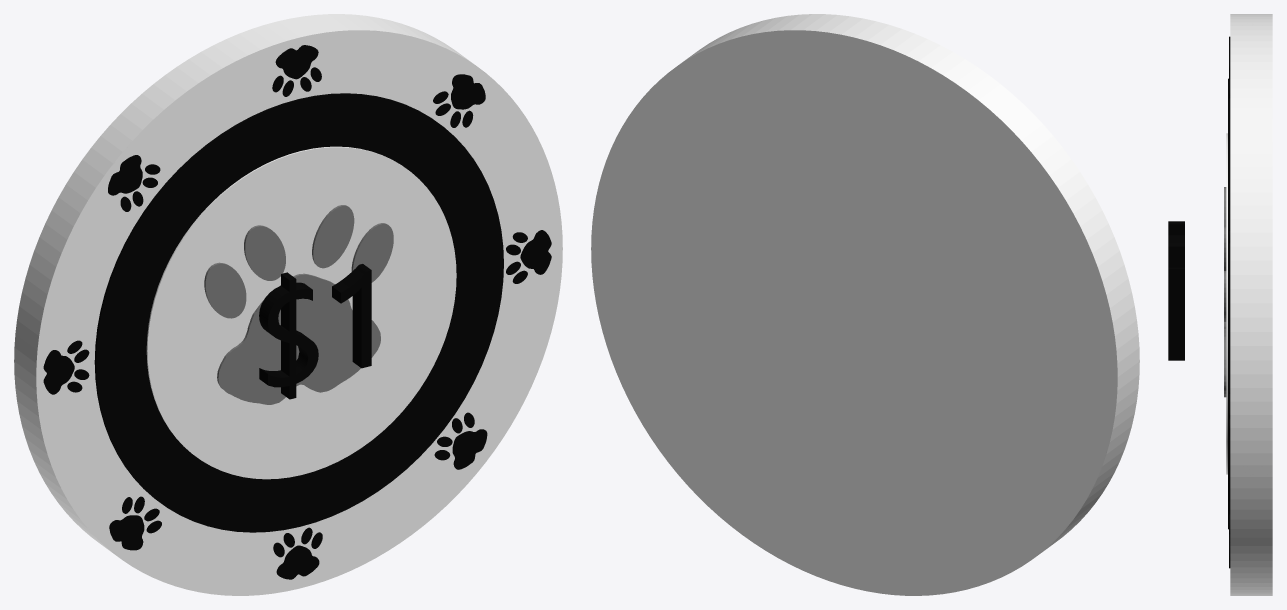
File: White paw chip.fbx
3 views of the same model, side by side, from view 1: azimuth 30°, elevation 25°; view 2: azimuth 150°, elevation 25°; view 3: azimuth 270°, elevation 25° (orthographic). The views are drawn at different scales.
Visible parts, largest first — view 1: root (×2), node_id4, node_id258, node_id260, node_id394, node_id220, node_id215, node_id231, node_id161, node_id237, node_id242, node_id192 (+1 smaller); view 2: node_id4; view 3: node_id4, node_id394, root (×2), node_id260, node_id258.
Boxes of the visible parts, left/top/right/bottom form: root (×2): left=94, top=93, right=503, bottom=532; node_id4: left=14, top=14, right=562, bottom=595; node_id258: left=217, top=273, right=380, bottom=404; node_id260: left=204, top=205, right=393, bottom=318; node_id394: left=259, top=264, right=371, bottom=399; node_id220: left=452, top=429, right=487, bottom=469; node_id215: left=108, top=155, right=142, bottom=195; node_id231: left=109, top=515, right=144, bottom=550; node_id161: left=276, top=545, right=319, bottom=579; node_id237: left=520, top=230, right=551, bottom=274; node_id242: left=43, top=350, right=74, bottom=394; node_id192: left=275, top=45, right=318, bottom=79; node_id4: left=591, top=14, right=1139, bottom=595; node_id4: left=1230, top=14, right=1272, bottom=595; node_id394: left=1168, top=221, right=1184, bottom=360; root (×2): left=1226, top=78, right=1230, bottom=529; node_id260: left=1224, top=187, right=1226, bottom=321; node_id258: left=1224, top=322, right=1226, bottom=397.
Bounding box in the file's own units: 0.5155 × 0.5155 × 0.0927.
22 materials, 19 textured.
